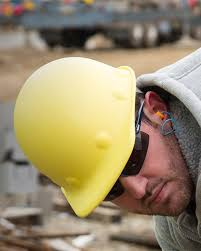Casco de seguridad: (10, 54, 138, 221)
